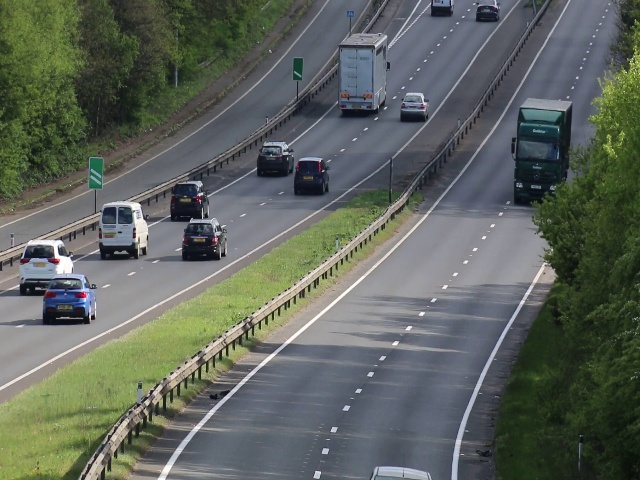car: (510, 99, 567, 206), (338, 32, 392, 118), (19, 240, 77, 297), (100, 201, 150, 261), (42, 275, 97, 326), (183, 217, 226, 264), (172, 176, 207, 221), (295, 155, 332, 197), (254, 139, 295, 176), (398, 90, 430, 123), (476, 2, 500, 22)
